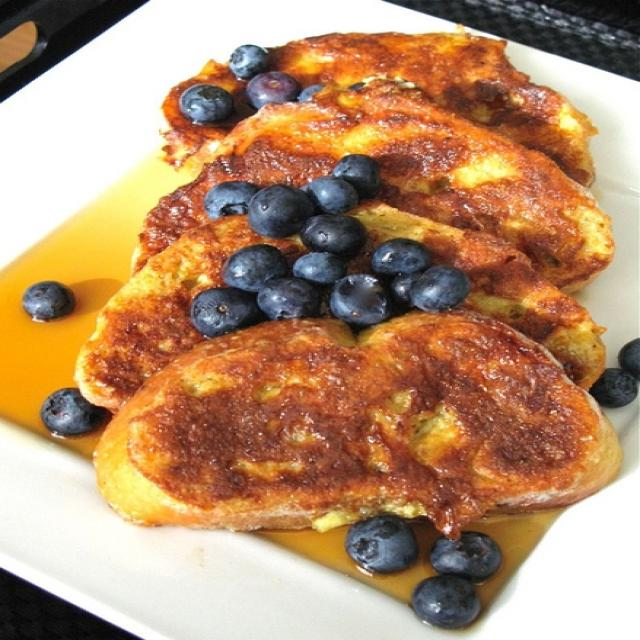面包点心: (29, 4, 631, 636)
